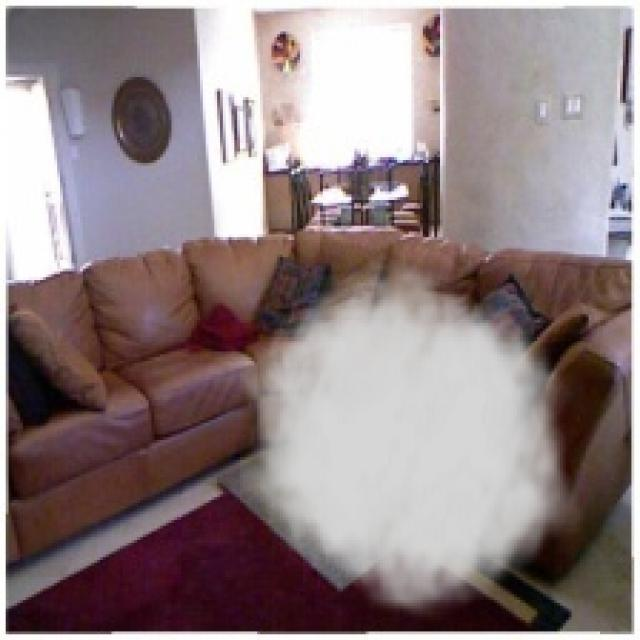smoke: (240, 248, 586, 628)
